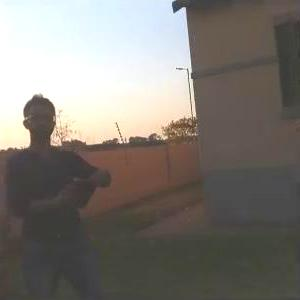follow: (0, 88, 116, 299)
